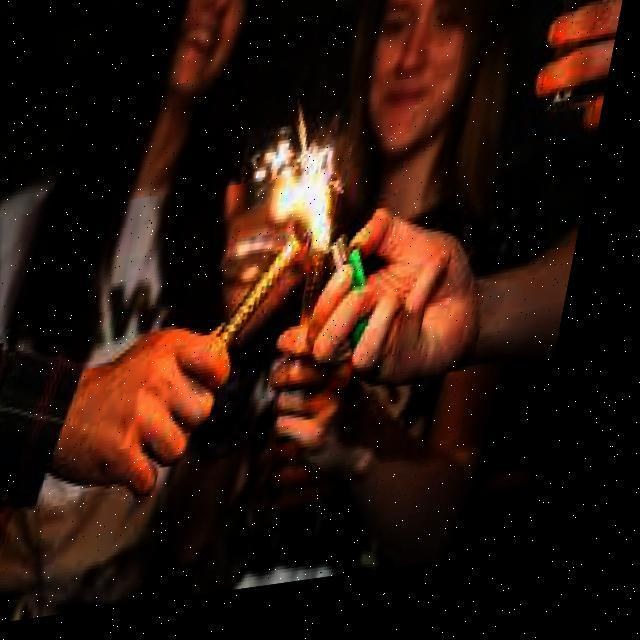Fire: (259, 166, 364, 281)
